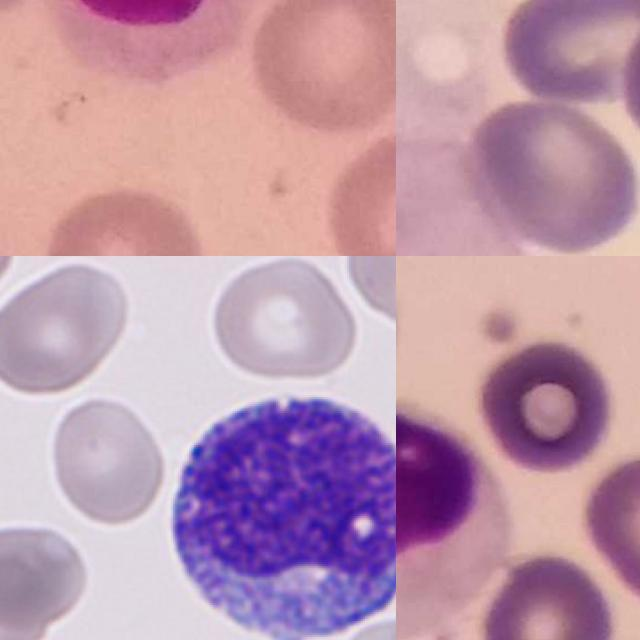Lymphocyte: (157, 377, 396, 640), (396, 400, 514, 640), (38, 0, 262, 87)
Monocyte: (396, 117, 531, 256)
RBC: (206, 256, 361, 386), (0, 256, 135, 395), (45, 390, 169, 530), (0, 516, 93, 633), (0, 546, 54, 640), (342, 256, 396, 336), (0, 256, 22, 304)
